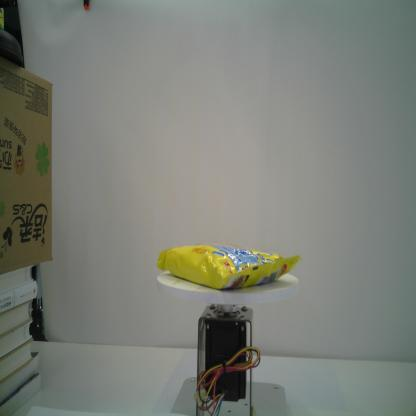Instant Noodles: (156, 242, 302, 290)
